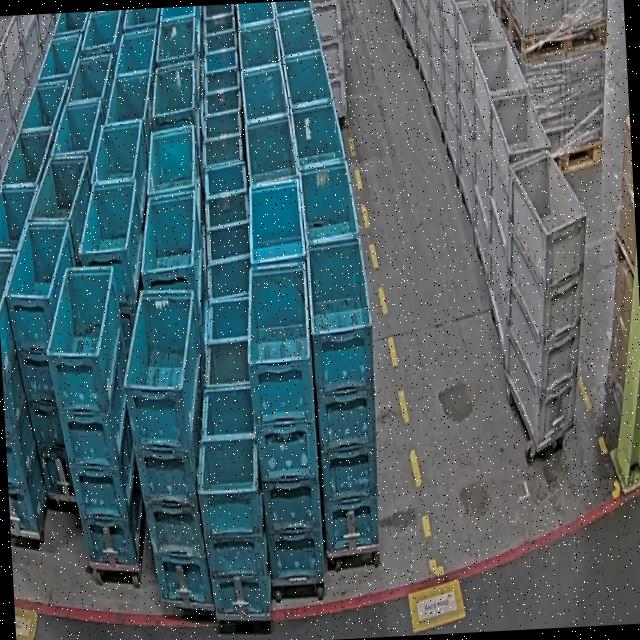4G: (492, 151, 598, 449)
B4: (44, 264, 146, 574), (118, 287, 214, 608), (242, 261, 324, 587), (305, 235, 384, 558), (2, 220, 88, 509), (0, 251, 49, 542)
B8: (193, 384, 271, 618)
